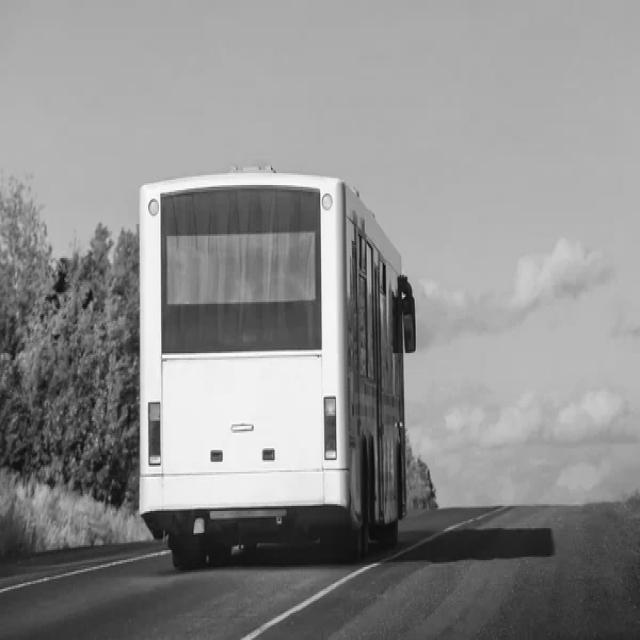Bus: (140, 166, 416, 570)
